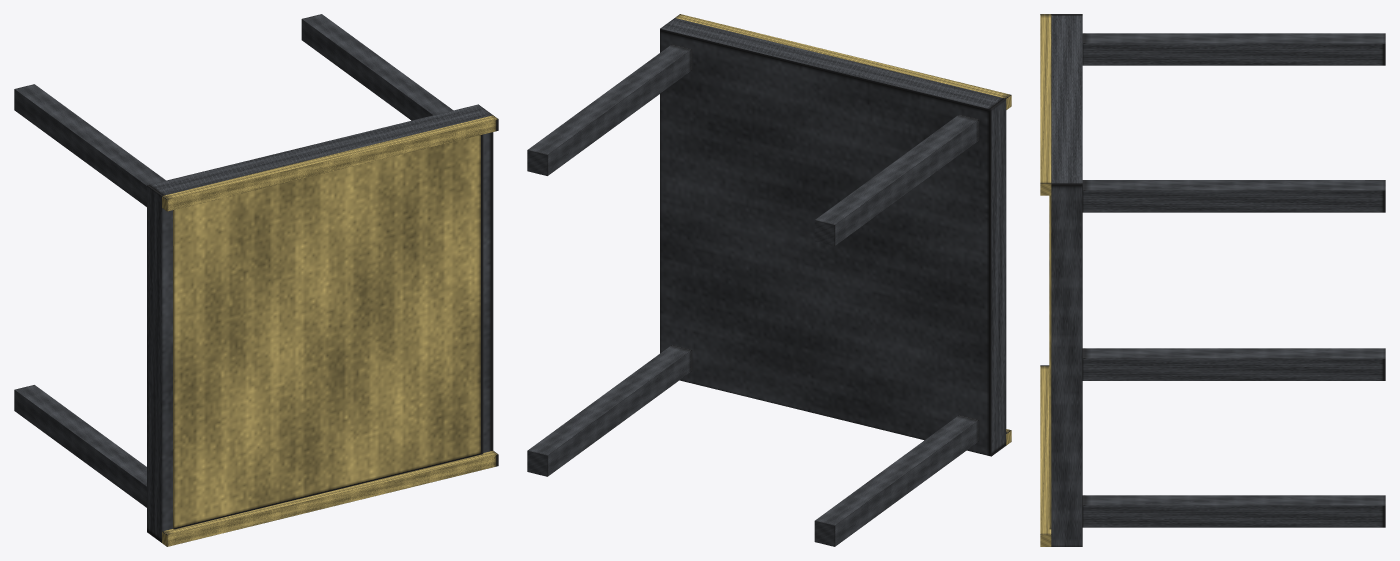
File: shared_stair_landing.obj
3 views of the same model, side by side, from view 1: azimuth 30°, elevation 25°; view 2: azimuth 150°, elevation 25°; view 3: azimuth 270°, elevation 25° (orthographic). The views are drawn at different scales.
Parts seen in each view (by area): view 1: shared_stair_landing; view 2: shared_stair_landing; view 3: shared_stair_landing.
Boxes of the visible parts, box(x1,y1,x2,y2) form: shared_stair_landing: box(14, 14, 498, 546); shared_stair_landing: box(527, 14, 1011, 546); shared_stair_landing: box(1040, 14, 1385, 546).
Size of the model in its own units: 1.8 by 1.8 by 1.55.
2 materials, 2 textured.
